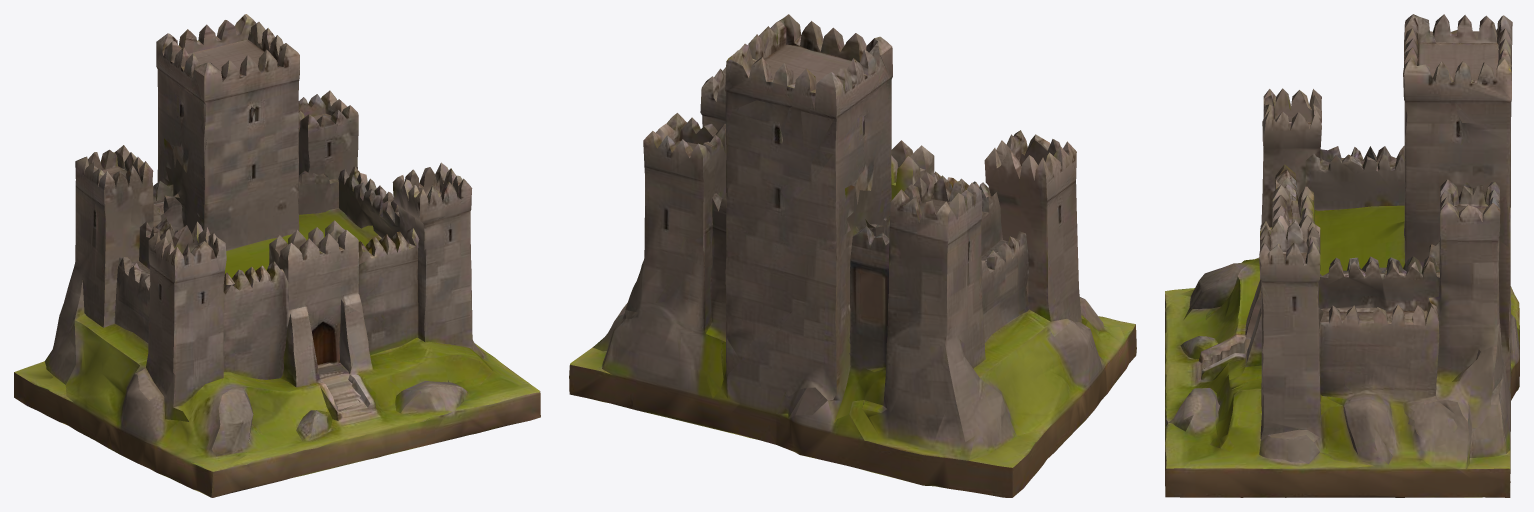
Rendered from guimaraes-castle.glb.
The picture shows the model from 3 angles, left to right: view 1: azimuth 30°, elevation 25°; view 2: azimuth 150°, elevation 25°; view 3: azimuth 270°, elevation 25°; orthographic projection. The views are drawn at different scales.
Visible parts, largest first — view 1: logan-textured.obj; view 2: logan-textured.obj; view 3: logan-textured.obj.
Part boxes in pixels (x1,y1,x2,y2): logan-textured.obj: (14,14,540,497); logan-textured.obj: (569,14,1136,497); logan-textured.obj: (1165,14,1519,497).
Size of the model in its own units: 1 by 0.8353 by 0.7375.
Materials: 1 (1 with a texture image).
